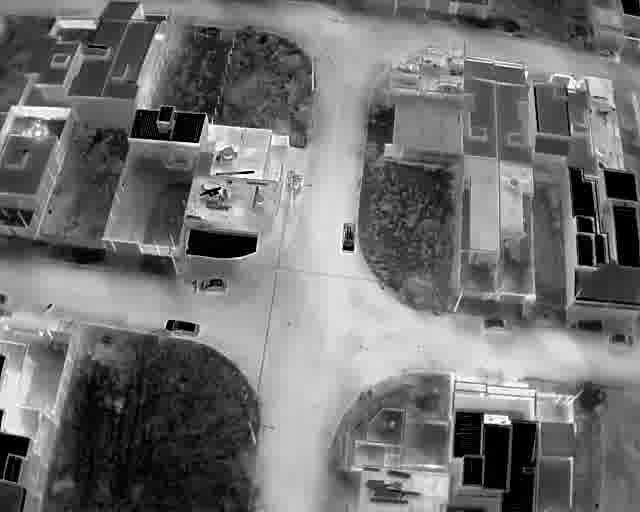car: (163, 318, 199, 336), (340, 221, 356, 254), (199, 277, 229, 294), (481, 319, 514, 333), (606, 334, 635, 347)
motorcycle: (41, 302, 53, 312)
